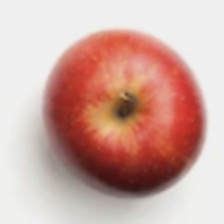apple: (16, 29, 167, 188)
